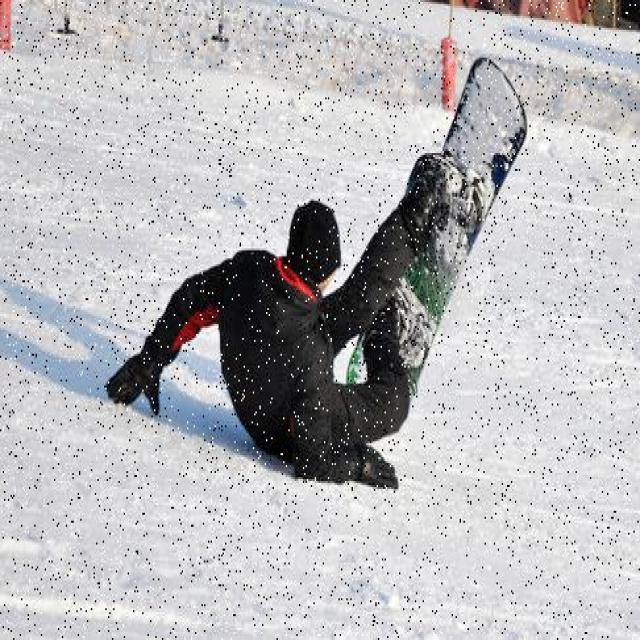fall: (118, 147, 457, 469)
